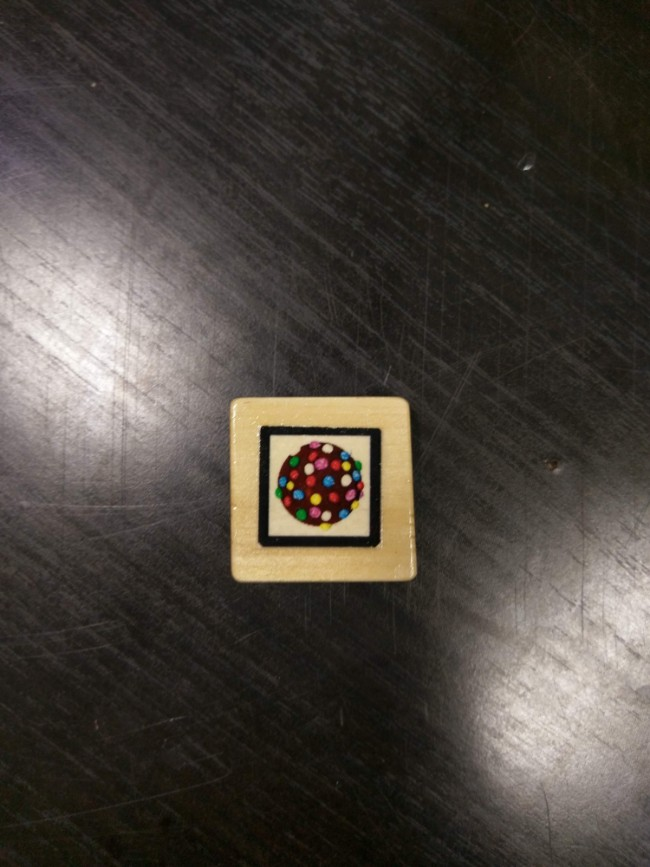cookie: (242, 416, 398, 560)
